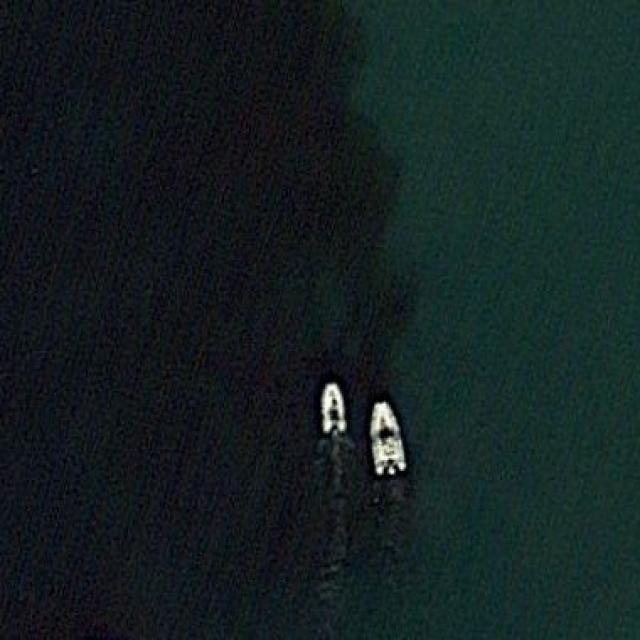ship: (366, 394, 408, 480), (317, 380, 347, 436)
